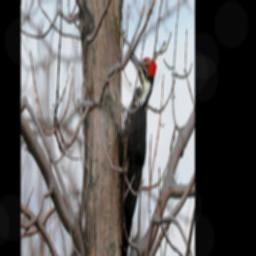Woodpecker: (116, 49, 157, 256)
